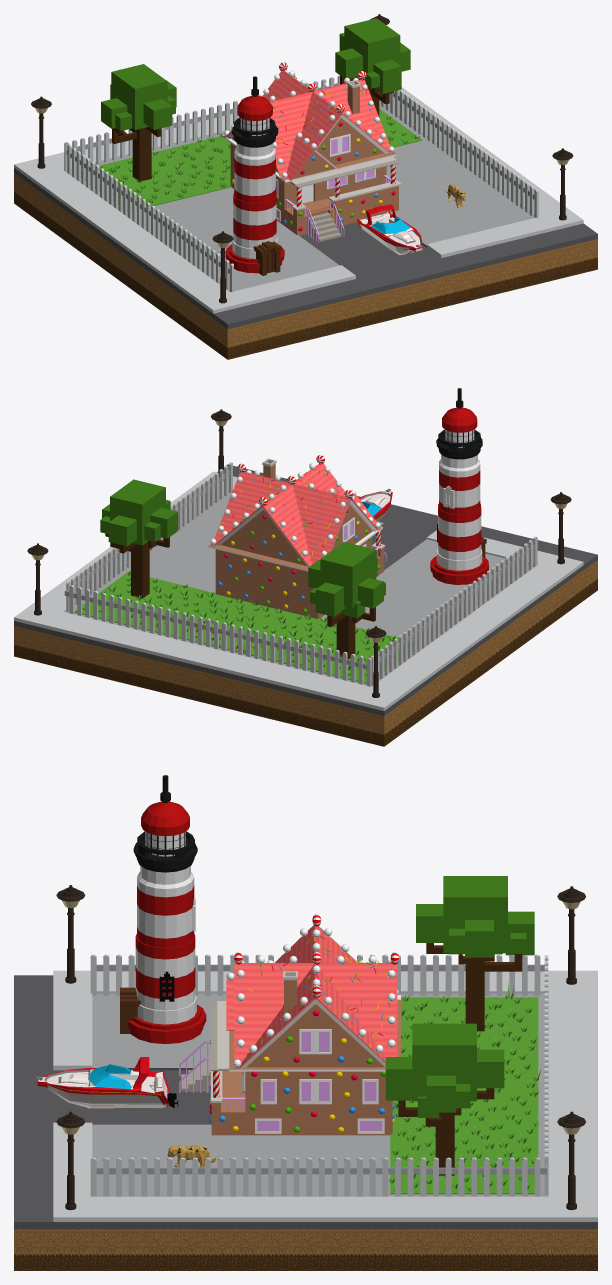
3 renders of one model, top to bottom at view 1: azimuth 30°, elevation 25°; view 2: azimuth 150°, elevation 25°; view 3: azimuth 270°, elevation 25°, orthographic. The views are drawn at different scales.
Parts seen in each view (by area): view 1: Cube.004, Cube.1203, OBJRANDOM_LIGHTHOUSE, VEHICLES_BOAT; view 2: Cube.004, Cube.1203, OBJRANDOM_LIGHTHOUSE, VEHICLES_BOAT; view 3: Cube.004, Cube.1203, OBJRANDOM_LIGHTHOUSE, VEHICLES_BOAT.
Boxes of the visible parts, left/top/right/bottom form: Cube.004: left=14, top=14, right=597, bottom=359; Cube.1203: left=222, top=62, right=401, bottom=242; OBJRANDOM_LIGHTHOUSE: left=225, top=76, right=284, bottom=275; VEHICLES_BOAT: left=357, top=204, right=422, bottom=255; Cube.004: left=14, top=409, right=597, bottom=746; Cube.1203: left=208, top=455, right=386, bottom=618; OBJRANDOM_LIGHTHOUSE: left=430, top=388, right=488, bottom=584; VEHICLES_BOAT: left=359, top=488, right=392, bottom=521; Cube.004: left=14, top=876, right=597, bottom=1270; Cube.1203: left=179, top=914, right=400, bottom=1135; OBJRANDOM_LIGHTHOUSE: left=120, top=775, right=206, bottom=1043; VEHICLES_BOAT: left=36, top=1057, right=178, bottom=1109.
Bounding box in the file's own units: 4000 × 2369 × 4000.
48 materials, 4 textured.
